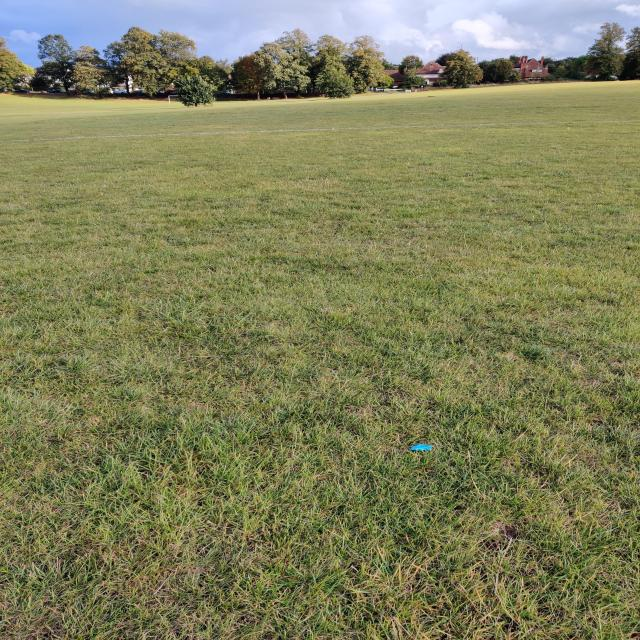litter: (388, 428, 449, 468)
